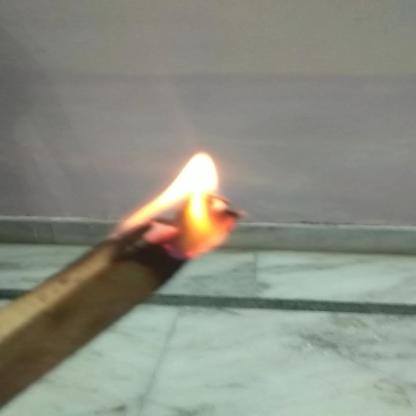fire: (125, 146, 259, 258)
